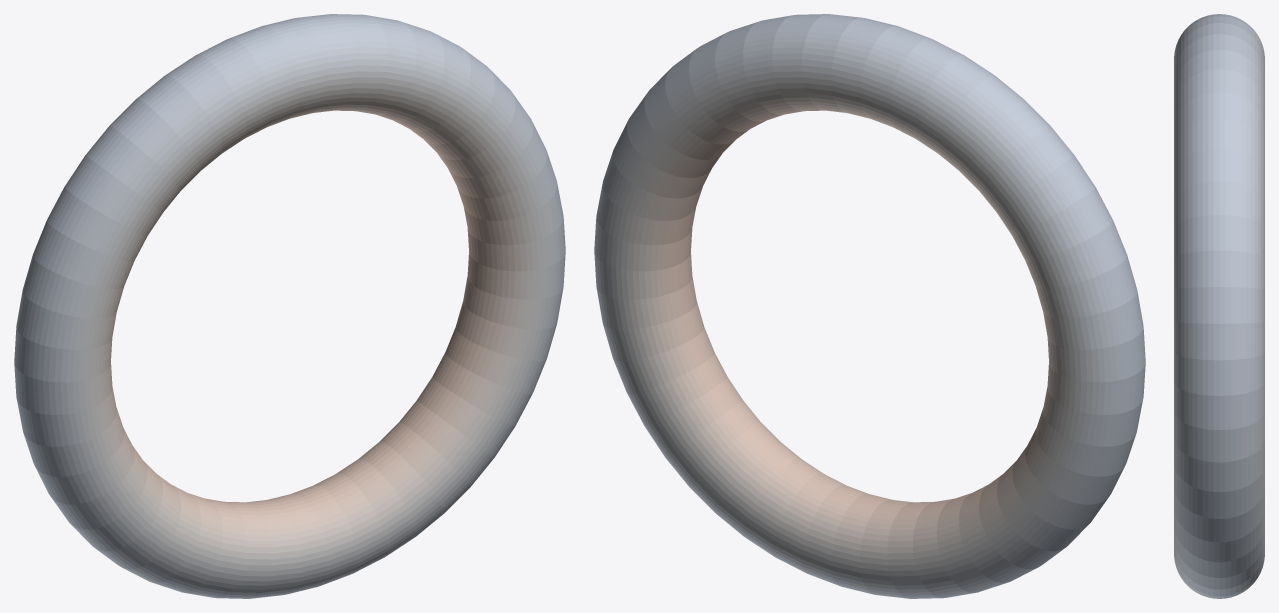
3 views of the same model, side by side, from view 1: azimuth 30°, elevation 25°; view 2: azimuth 150°, elevation 25°; view 3: azimuth 270°, elevation 25° (orthographic). The views are drawn at different scales.
Parts seen in each view (by area): view 1: world; view 2: world; view 3: world.
Part boxes in pixels (bbox=[...]): world: bbox=[14, 14, 565, 598]; world: bbox=[594, 14, 1145, 598]; world: bbox=[1174, 14, 1264, 598].
Size of the model in its own units: 30 by 29.94 by 4.66.
